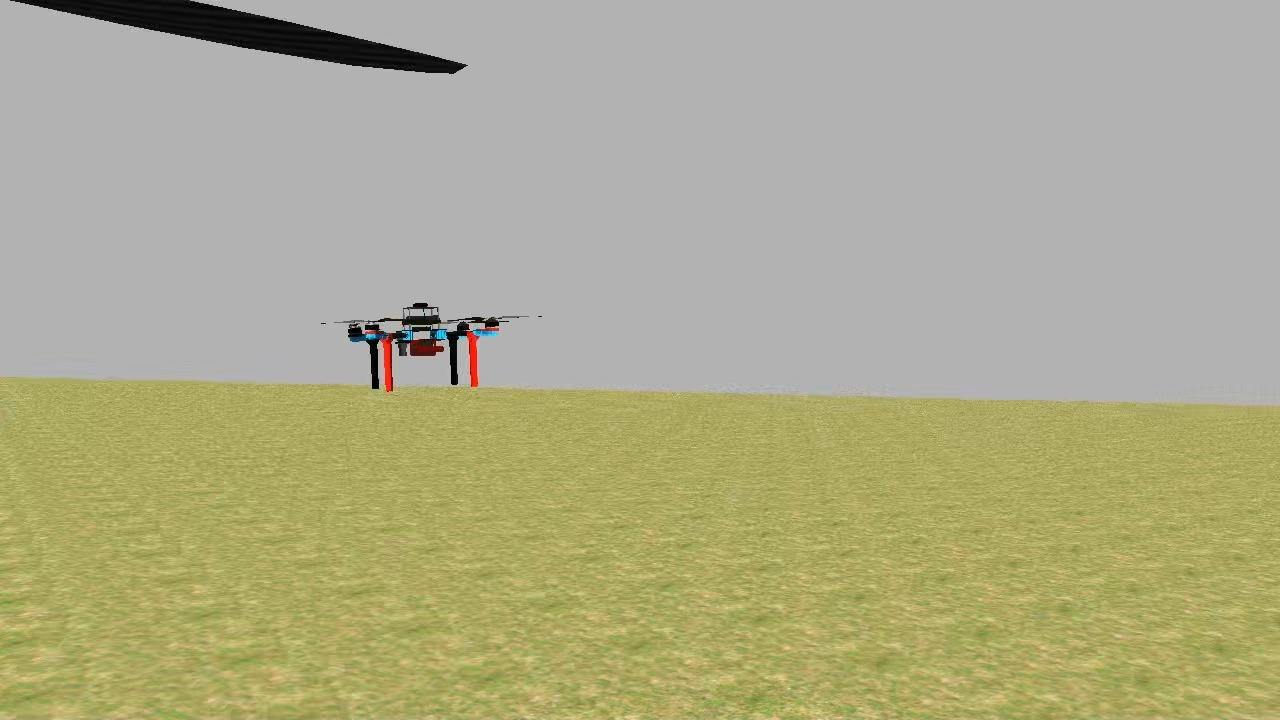UAV: (340, 294, 504, 398)
